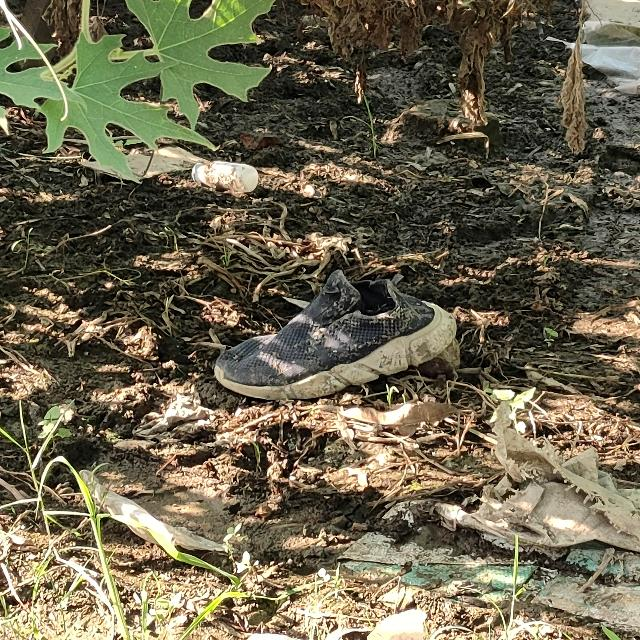sandal: (208, 283, 465, 410)
